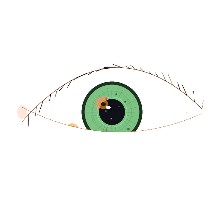foreign_body_visible: (50, 113, 94, 148)
